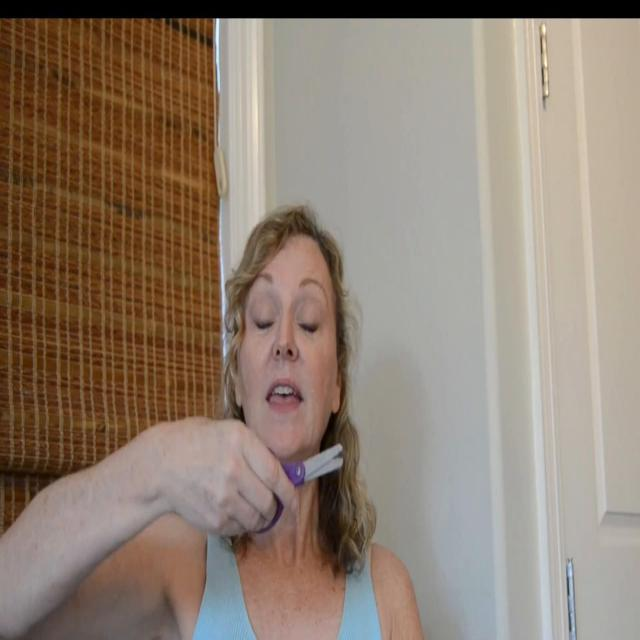scissor: (252, 444, 344, 535)
